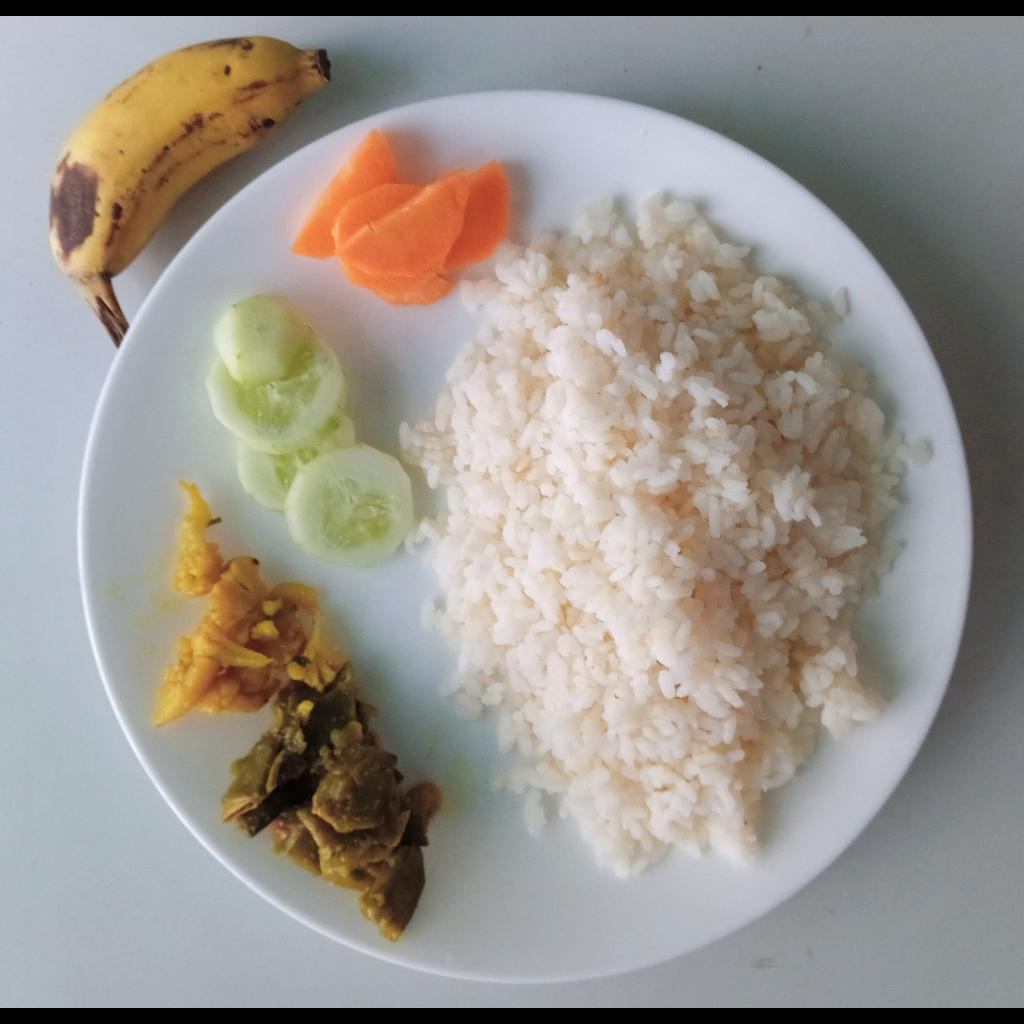banana: (50, 37, 327, 341)
carrot: (293, 138, 507, 304)
cauliflower: (157, 490, 344, 728)
cucumber: (205, 297, 413, 571)
rice: (393, 195, 921, 867)
shim: (220, 671, 434, 941)
